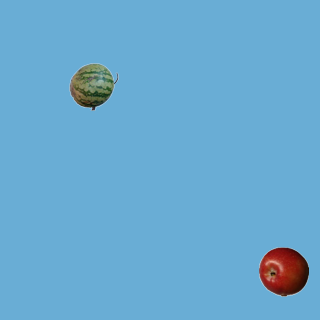Apple Braeburn: (258, 246, 308, 296)
Watermelon: (68, 61, 118, 111)
